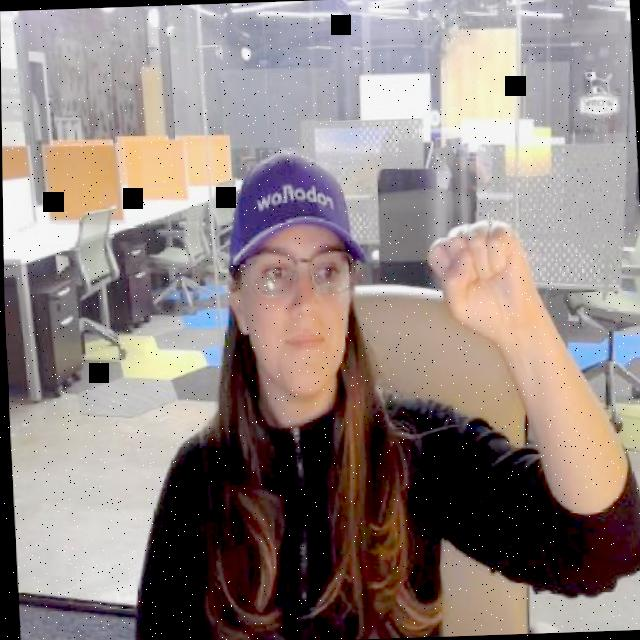Rock: (426, 212, 529, 341)
